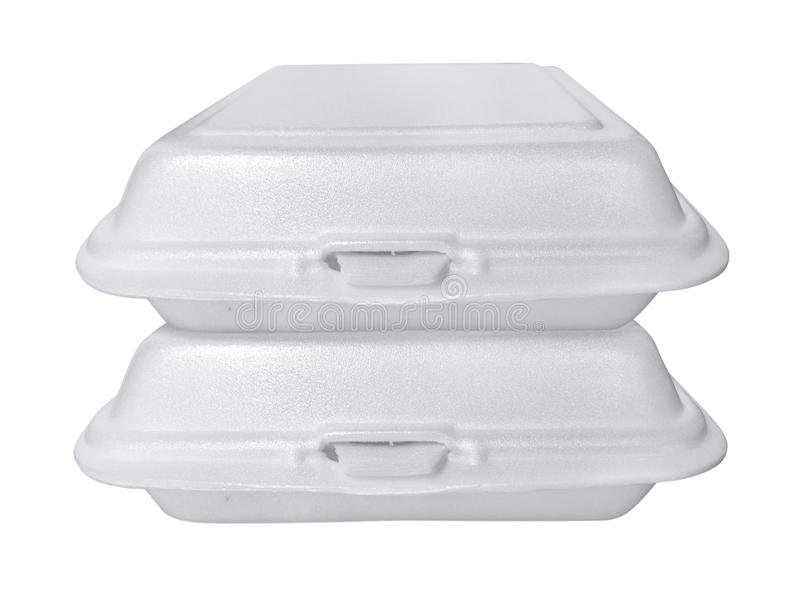Foam Box: (67, 57, 736, 527)
